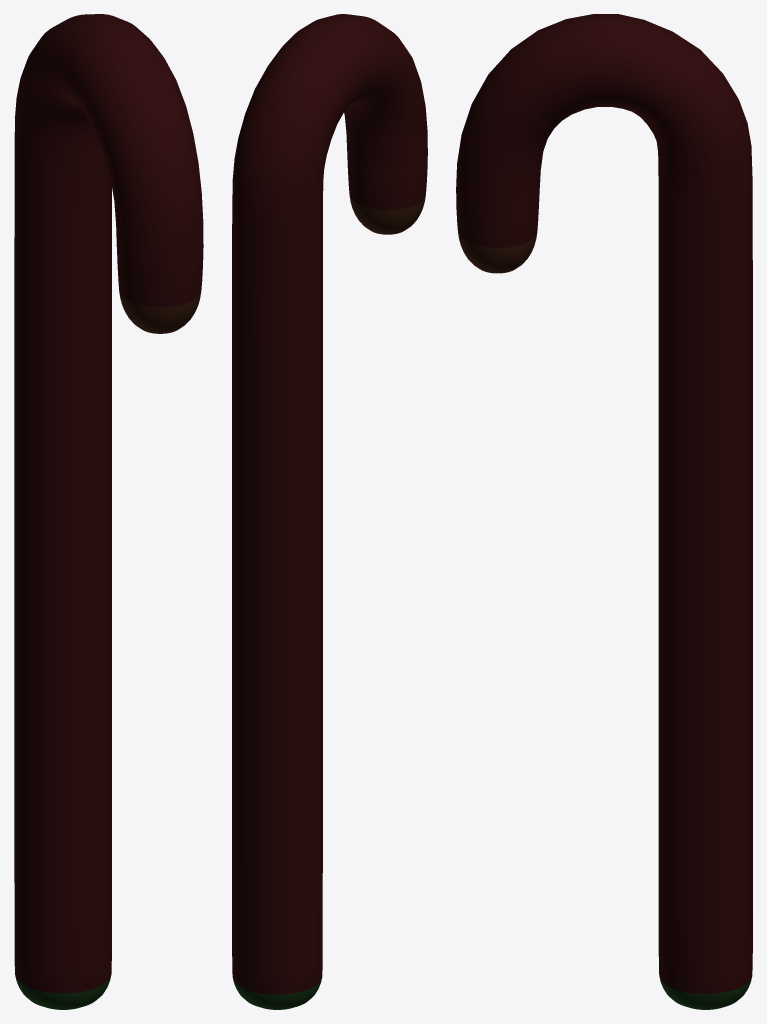
Rendered from CandyCane.fbx.
3 views of the same model, side by side, from view 1: azimuth 30°, elevation 25°; view 2: azimuth 150°, elevation 25°; view 3: azimuth 270°, elevation 25° (orthographic). The views are drawn at different scales.
Visible parts, largest first — view 1: polySurface1359 (×3); view 2: polySurface1359 (×3); view 3: polySurface1359 (×3).
Boxes of the visible parts, box(x1,y1,x2,y2) form: polySurface1359 (×3): box(14, 14, 203, 1009); polySurface1359 (×3): box(232, 14, 427, 1009); polySurface1359 (×3): box(456, 14, 752, 1009).
Size of the model in its own units: 0.5689 by 6.01 by 1.65.
